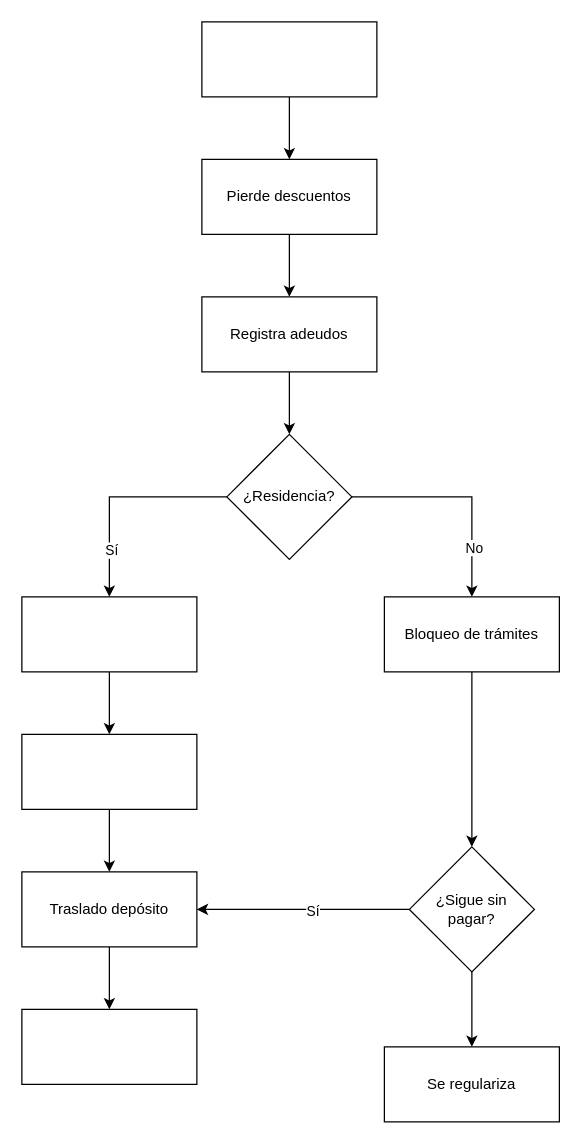
Some shapes in this 581 by 1144 pixel diagram are drawn without their labels. Each missing label, with the centre of its shape:
"Costos adicionales" belongs at point (109, 1046).
"Mayor inmovilización" belongs at point (109, 771).
"Multa no pagada con mas de 30 días" belongs at point (289, 59).
"Sanciones mayores" belongs at point (109, 634).
